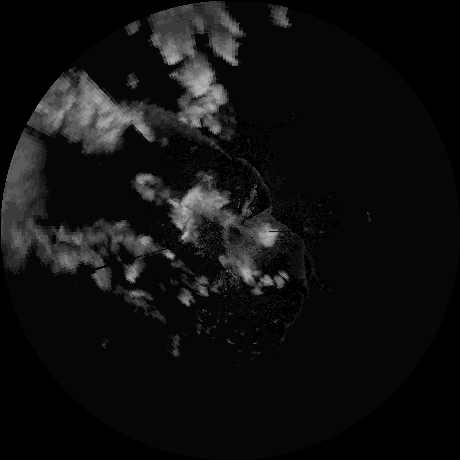frontgust: (197, 129, 274, 204), (277, 218, 307, 282)
